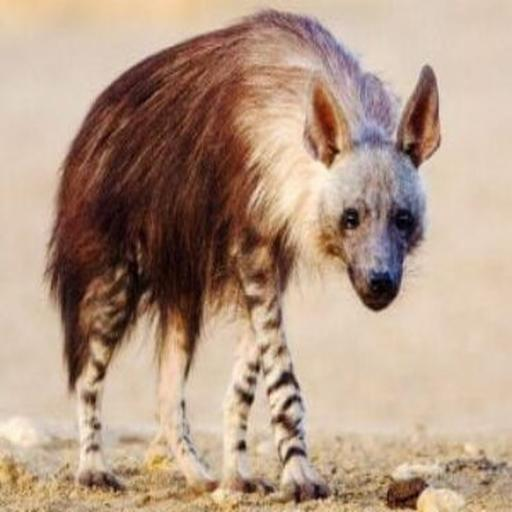Hyena: (44, 9, 449, 506)
